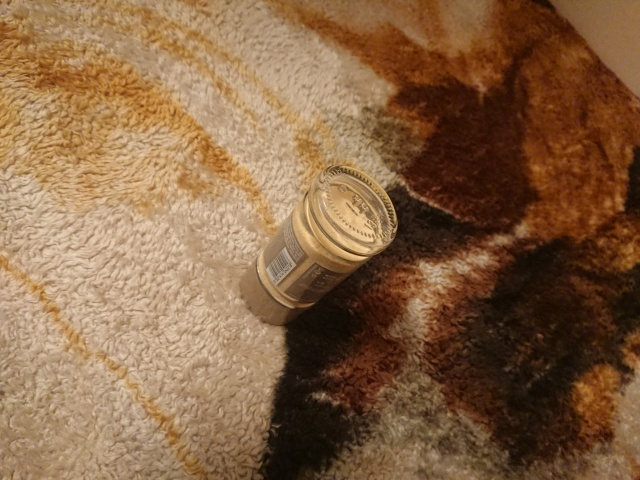Kotanyi Garlic Granules 70g: (236, 163, 401, 328)
